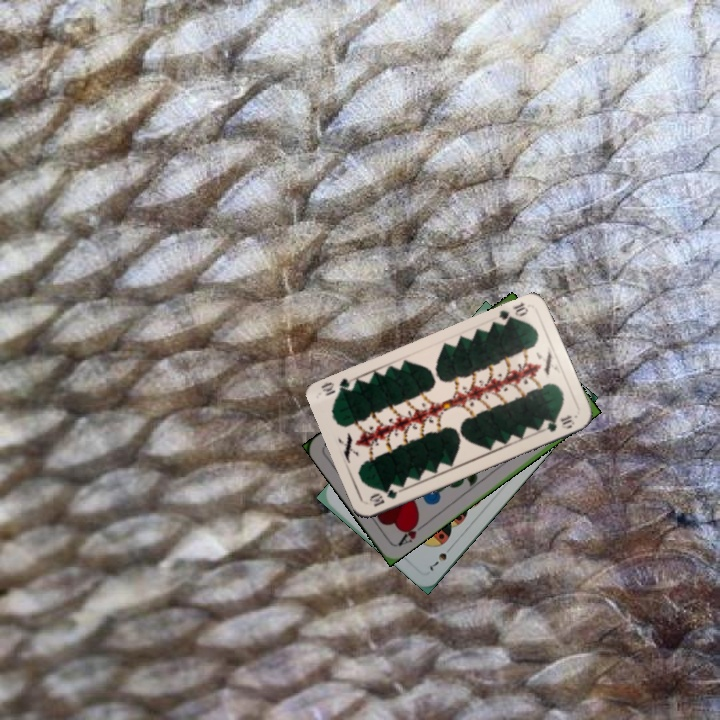G10: (365, 481, 404, 509), (494, 299, 531, 328)
HA: (393, 516, 428, 549)
S7: (424, 541, 456, 574)
